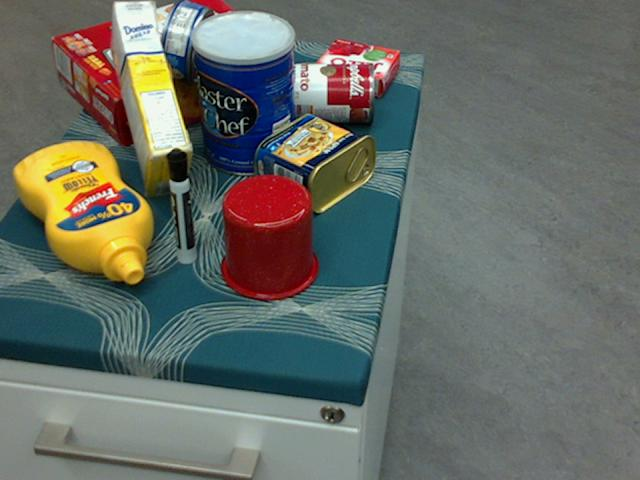cracker_box: (53, 0, 282, 147)
gelatin_box: (313, 40, 399, 95)
large_marker: (164, 148, 195, 262)
master_chef_can: (192, 10, 295, 175)
mug: (218, 173, 318, 299)
mustard_bottle: (13, 142, 152, 283)
potted_meat_can: (253, 111, 376, 214)
sugar_box: (111, 0, 193, 195)
tomato_soup_can: (281, 62, 374, 122)
tuna_fish_can: (158, 0, 214, 84)
